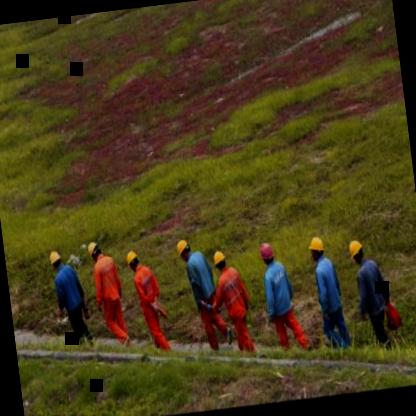helmet: (304, 233, 326, 262), (46, 242, 67, 272), (122, 246, 143, 275), (85, 233, 104, 264), (347, 235, 367, 262), (257, 240, 279, 264), (174, 236, 192, 262), (211, 249, 230, 272)
